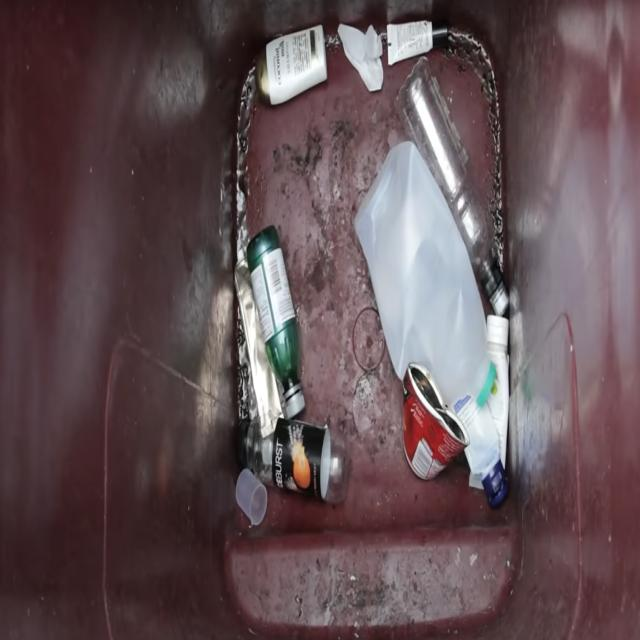can: (393, 342, 475, 500)
plasticbottle: (350, 140, 500, 412), (242, 217, 312, 428), (240, 409, 353, 508), (247, 26, 351, 111)
plasticbottlecap: (230, 467, 272, 537), (482, 452, 514, 515), (277, 386, 314, 427)
